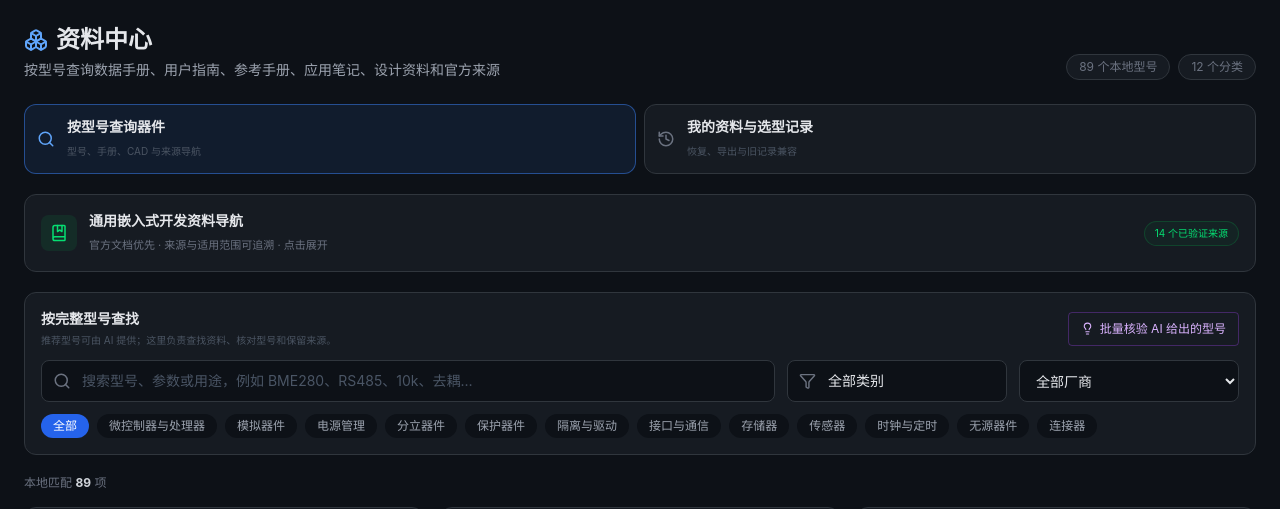
Test case: ChipLibPage layout › keeps model lookup primary and opens batch verification as a secondary workspace
This screenshot has width=1280, height=509.
Check: the field with placeholder "搜索型号、参数或用途，例如 BME280、RS485、10k、去耦…" is shown, box [41,360,775,402]
Check: the button "方案选型与验证" is not shown
Click the button "批量核验 AI 给出的型号". click: (1153, 328)
box: [1068,312,1239,346]
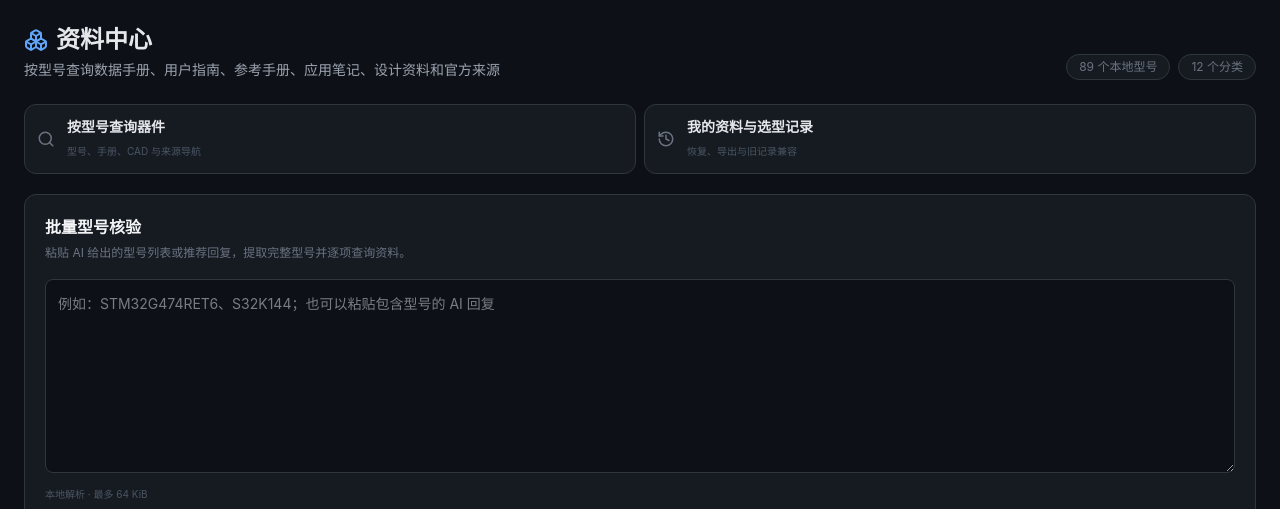
Check: the field with placeholder "搜索型号、参数或用途" is not shown
Check: the heading "批量型号核验" is shown, box [45,217,141,237]
Click the button "我的资料与选型记录 恢复、导出与旧记录兼容". click: (750, 126)
box: [644,104,1256,174]
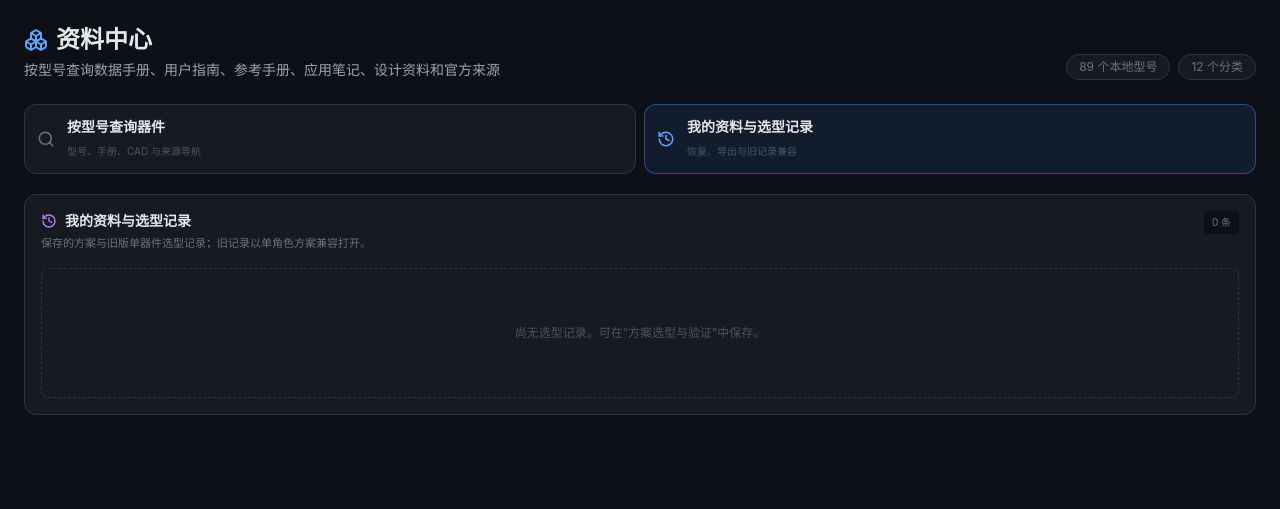
Check: the heading "我的资料与选型记录" is shown, box [41,212,191,229]
Check: the heading "批量型号核验" is gone
